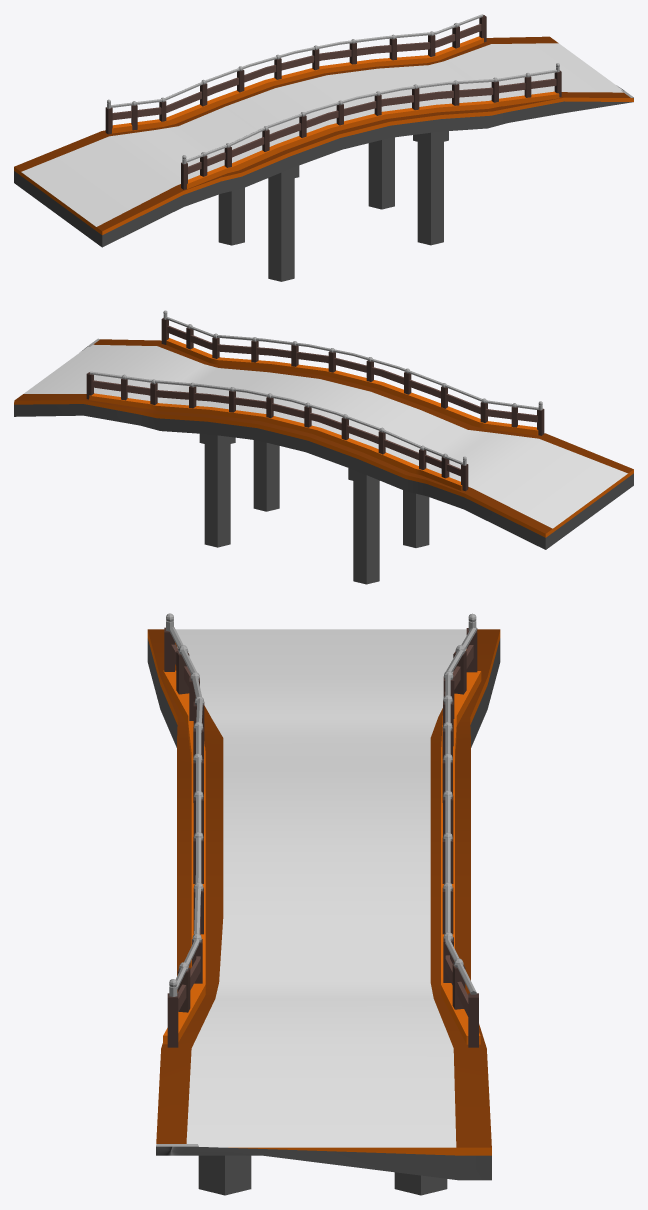
Rendered from ponte_10.fbx.
The picture shows the model from 3 angles, top to bottom: view 1: azimuth 30°, elevation 25°; view 2: azimuth 150°, elevation 25°; view 3: azimuth 270°, elevation 25°; orthographic projection. The views are drawn at different scales.
Parts seen in each view (by area): view 1: polySurface344, polySurface345, polySurface375, polySurface342, polySurface408, polySurface372; view 2: polySurface344, polySurface345, polySurface375, polySurface342, polySurface408, polySurface372; view 3: polySurface344, polySurface408, polySurface375, polySurface372, polySurface345, polySurface342, polySurface400.
Part boxes in pixels (x1,y1,x2,y2): polySurface344: (14,36,633,247); polySurface345: (218,131,448,281); polySurface375: (112,36,559,188); polySurface342: (112,24,556,174); polySurface408: (105,15,561,189); polySurface372: (111,14,557,162); polySurface344: (14,338,633,549); polySurface345: (199,433,429,584); polySurface375: (89,338,538,490); polySurface342: (92,325,537,476); polySurface408: (86,318,544,491); polySurface372: (89,317,538,465); polySurface344: (147,629,500,1180); polySurface408: (164,627,478,1047); polySurface375: (163,670,481,1044); polySurface372: (170,627,476,994); polySurface345: (198,1155,447,1195); polySurface342: (171,644,473,1016); polySurface400: (178,645,465,970).
Size of the model in its own units: 16.3 by 4.88 by 4.66.
